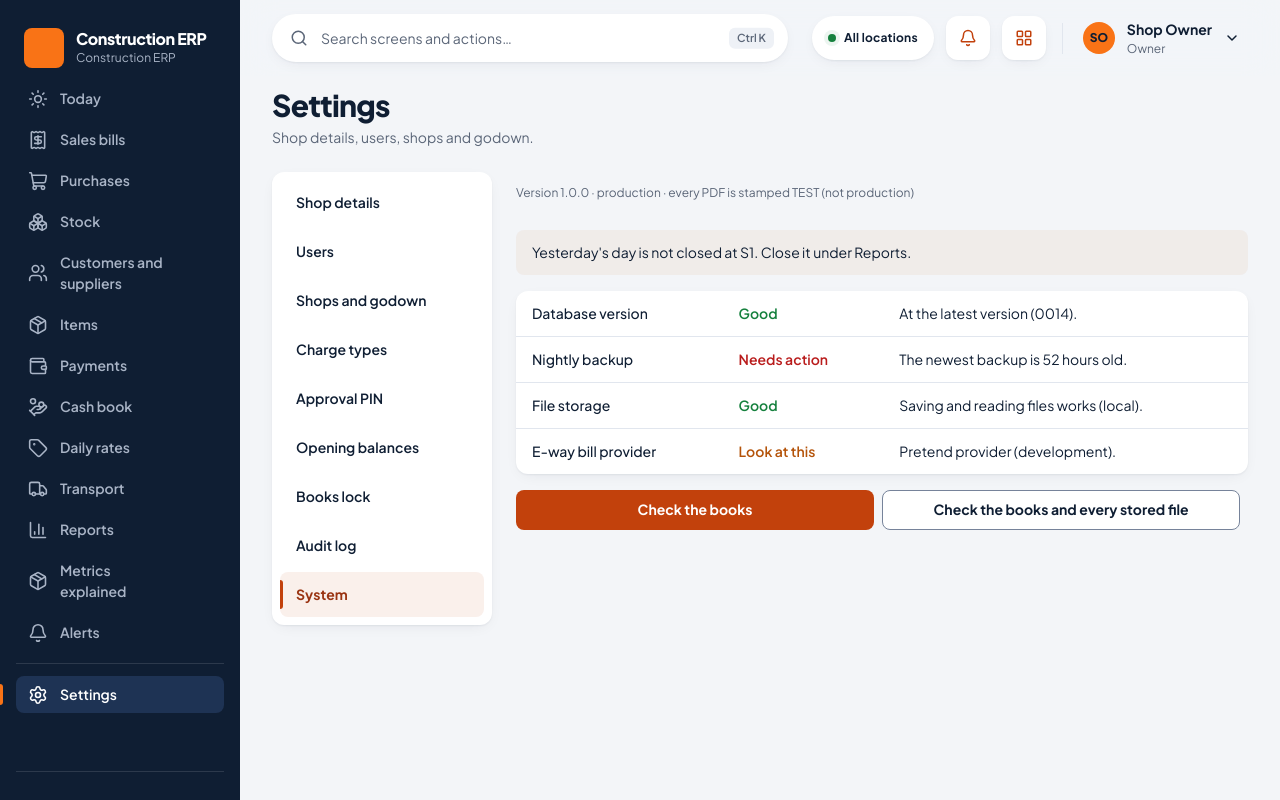
Test: System page › runs the book checks and reports a problem plainly
Expected: the text "every PDF is stamped TEST" is shown, [661,184,914,200]
Click the button "Check the books and every stored file" at (1061, 510), box [882,490,1240,530]
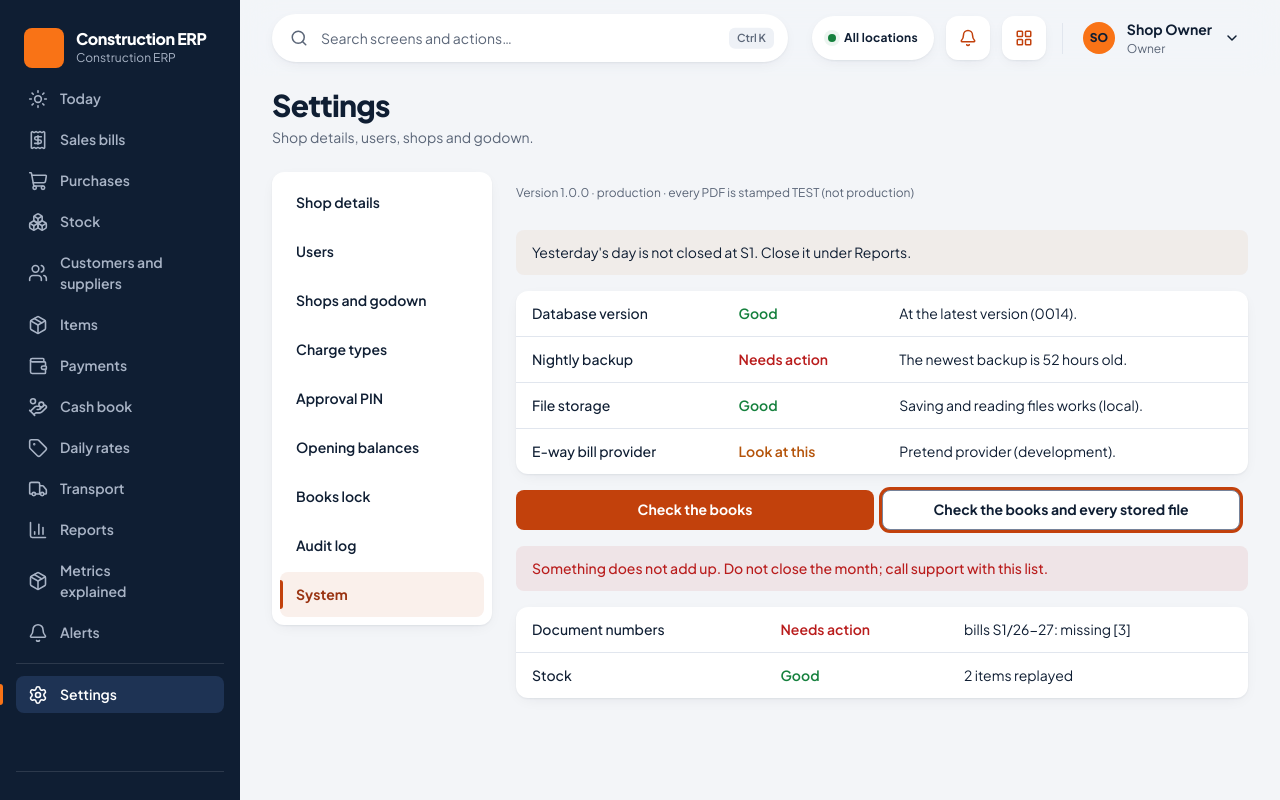
Expected: the text "Something does not add up" is shown, [532,558,1048,576]
Expected: the text "bills S1/26-27: missing [3]" is shown, [948,606,1248,652]
